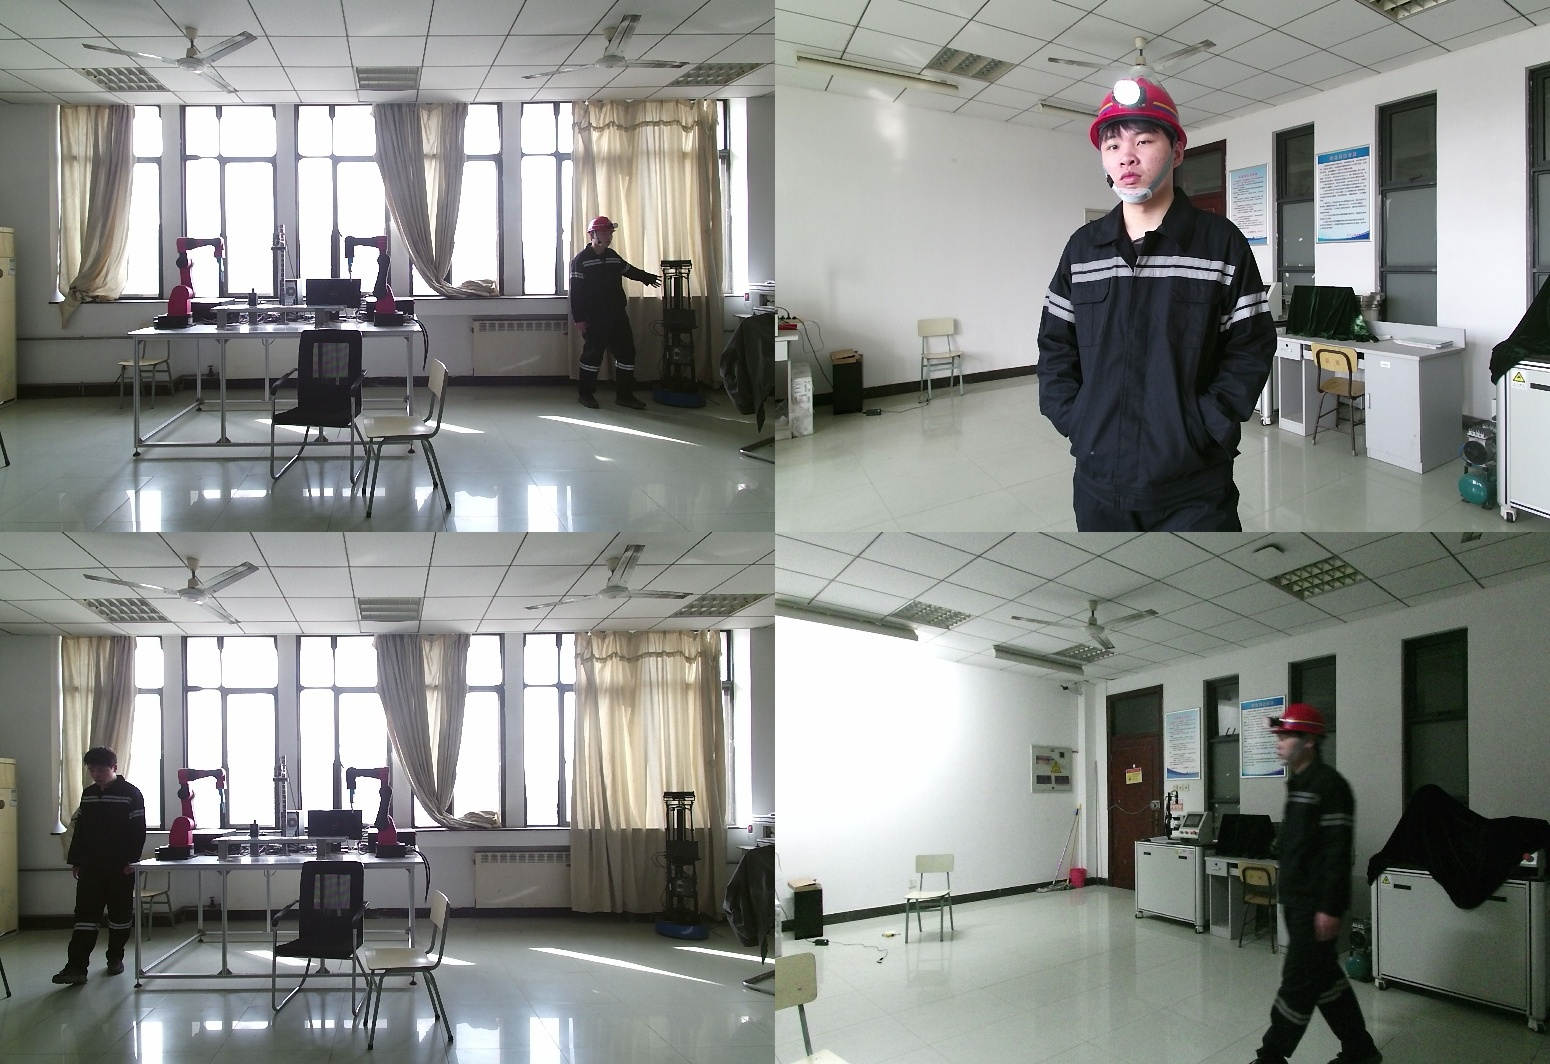person: (1039, 78, 1296, 532), (1262, 701, 1388, 1064), (50, 749, 146, 983), (568, 215, 662, 415)
